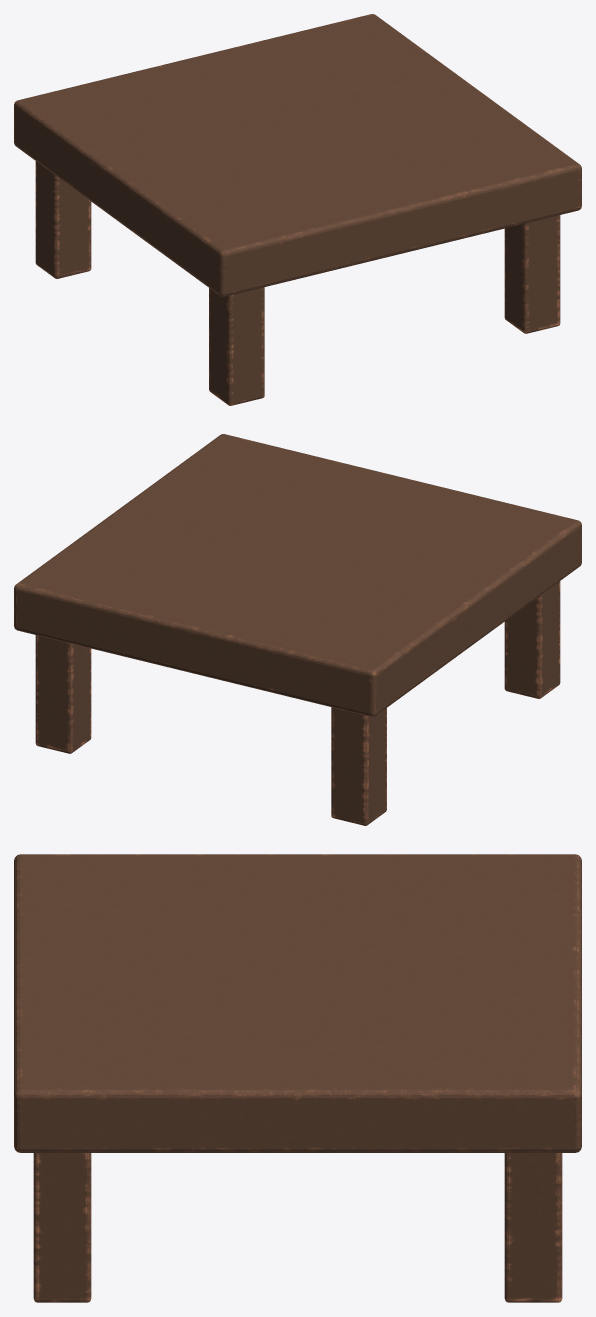
File: prop-table.glb
3 renders of one model, top to bottom at view 1: azimuth 30°, elevation 25°; view 2: azimuth 150°, elevation 25°; view 3: azimuth 270°, elevation 25°, orthographic. The views are drawn at different scales.
Parts seen in each view (by area): view 1: bake.005; view 2: bake.005; view 3: bake.005.
Part boxes in pixels (left/top/right/bottom): bake.005: left=14, top=14, right=581, bottom=405; bake.005: left=14, top=434, right=581, bottom=825; bake.005: left=14, top=854, right=581, bottom=1302.
Bounding box in the file's own units: 1.07 × 0.4622 × 1.07.
1 material, 1 textured.
